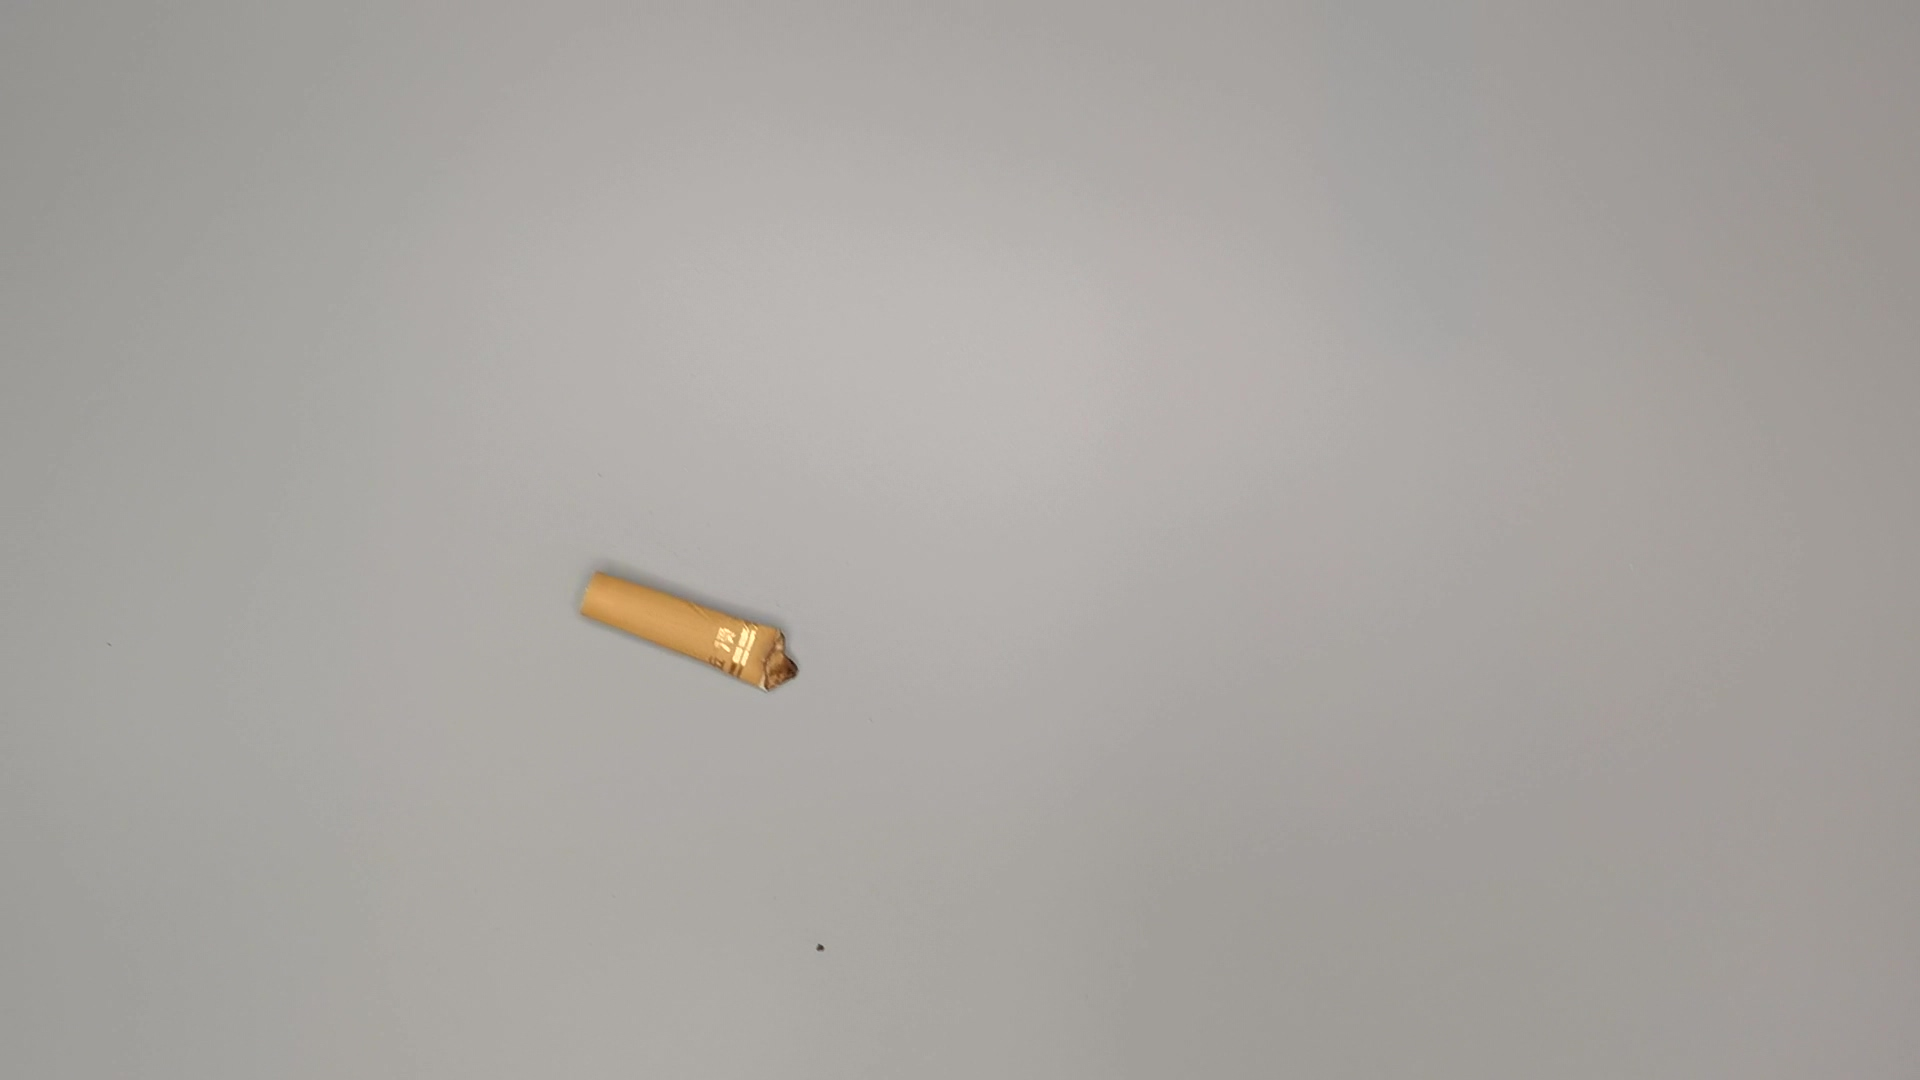cigarette: (549, 563, 814, 709)
